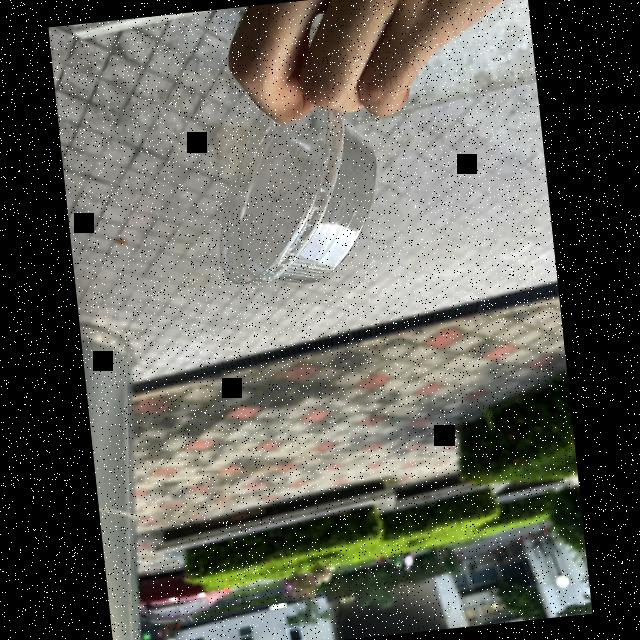plastic_cup_lid: (190, 94, 404, 304)
